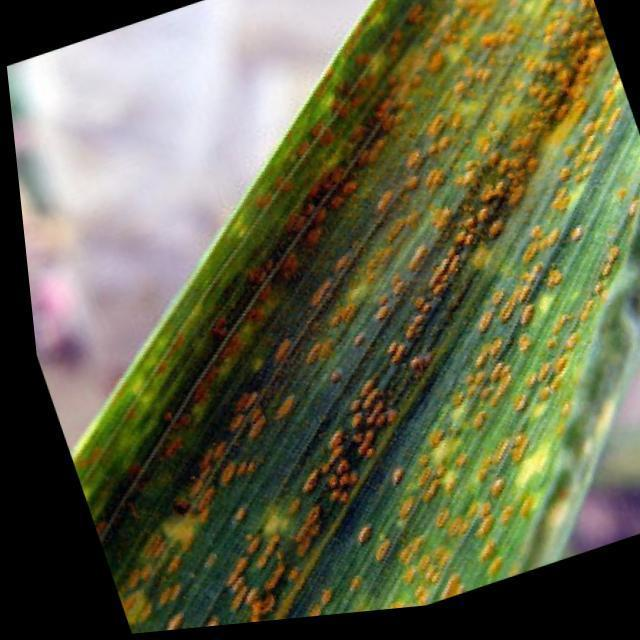Yellow_Rust: (59, 0, 639, 634)
